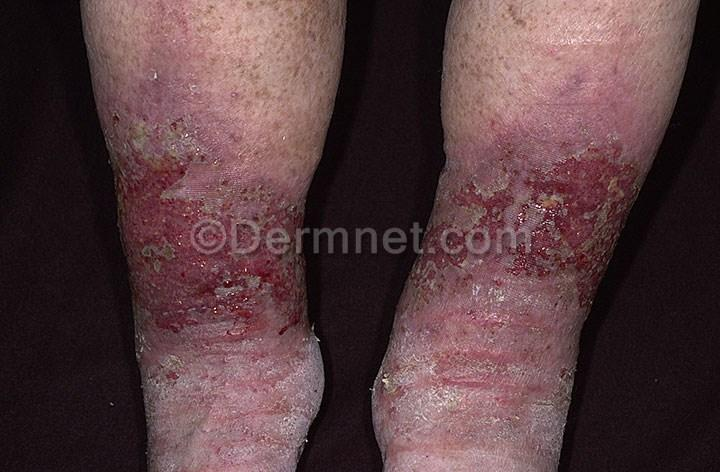Eczema: (99, 110, 318, 221), (417, 325, 580, 446), (437, 142, 661, 230), (142, 358, 334, 445), (216, 220, 316, 356), (115, 225, 216, 352), (130, 0, 237, 112), (522, 61, 657, 138), (513, 232, 631, 306), (410, 244, 509, 320), (368, 370, 440, 401)
